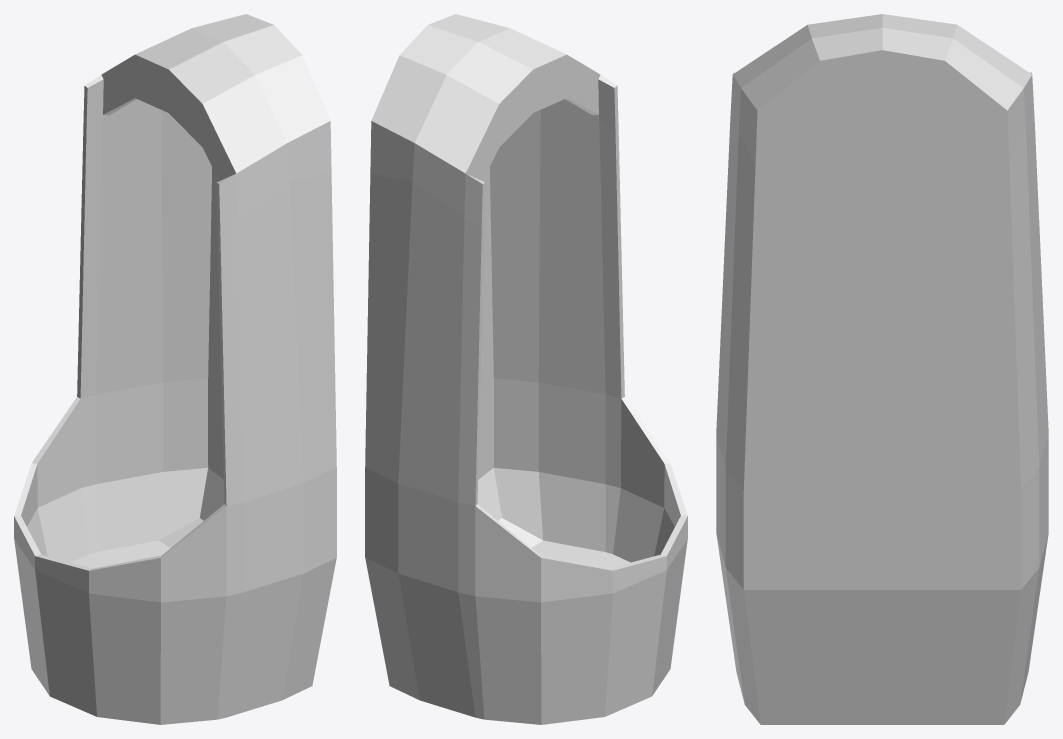
File: urinal_0415.fbx
The picture shows the model from 3 angles, left to right: view 1: azimuth 30°, elevation 25°; view 2: azimuth 150°, elevation 25°; view 3: azimuth 270°, elevation 25°; orthographic projection. The views are drawn at different scales.
Visible parts, largest first — view 1: Cylinder001; view 2: Cylinder001; view 3: Cylinder001.
Boxes of the visible parts, x1,y1,x2,y2 form: Cylinder001: (14, 14, 336, 724); Cylinder001: (365, 14, 687, 724); Cylinder001: (716, 14, 1048, 724).
Size of the model in its own units: 54.02 by 133 by 58.63.
Materials: 1 (1 with a texture image).
